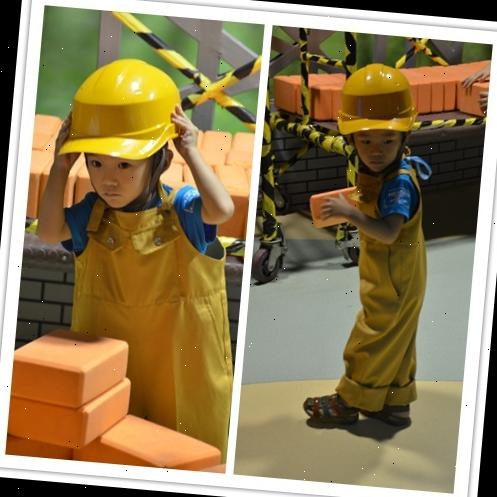helmet: (56, 52, 188, 168), (335, 59, 453, 144)
no_wear: (56, 198, 235, 342), (338, 164, 430, 289)
